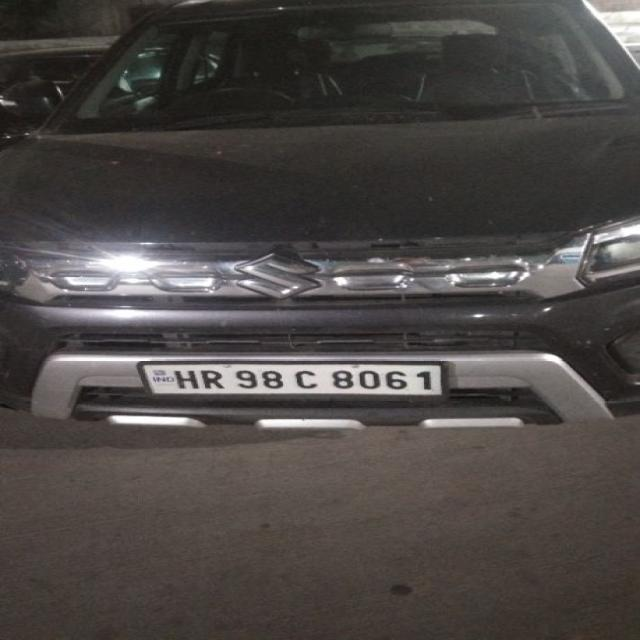license_plate: (135, 358, 449, 398)
